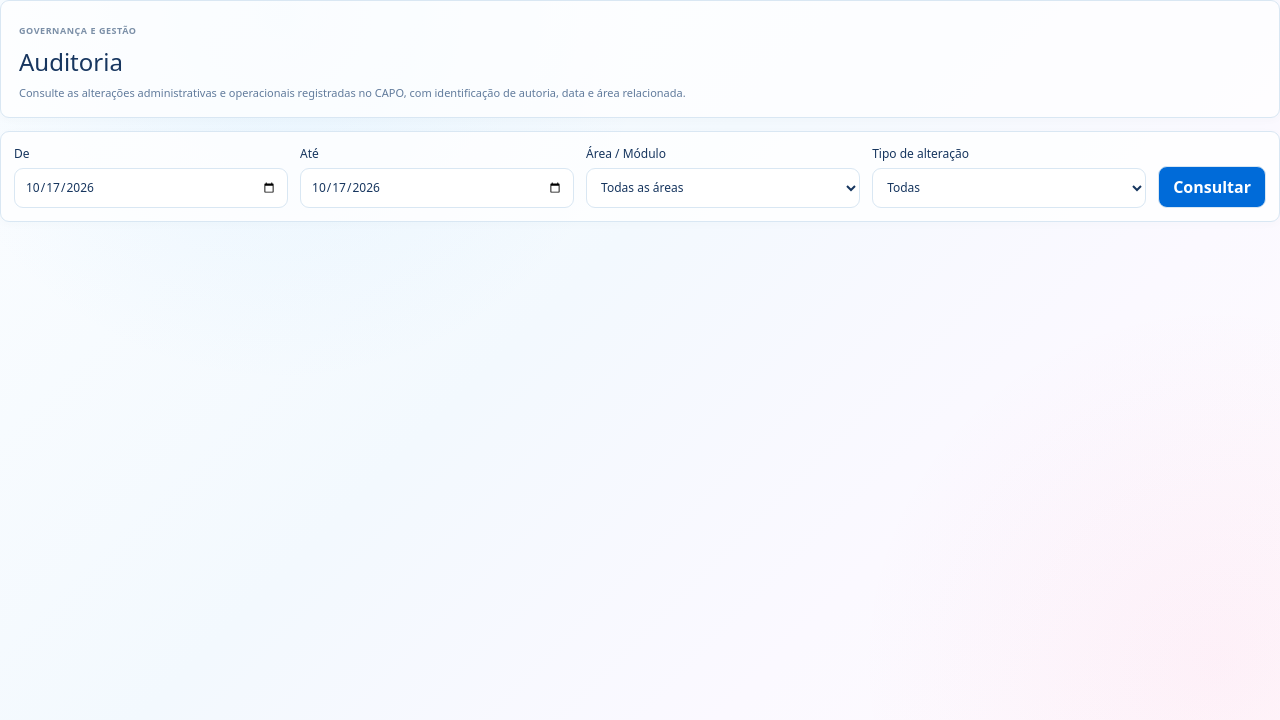
Auditoria administrativa do Gestor › apresenta autoria, área, resumo e alterações seguras, omitindo código da tabela
Click the button "Consultar": (1212, 186) [1158,166,1266,208]
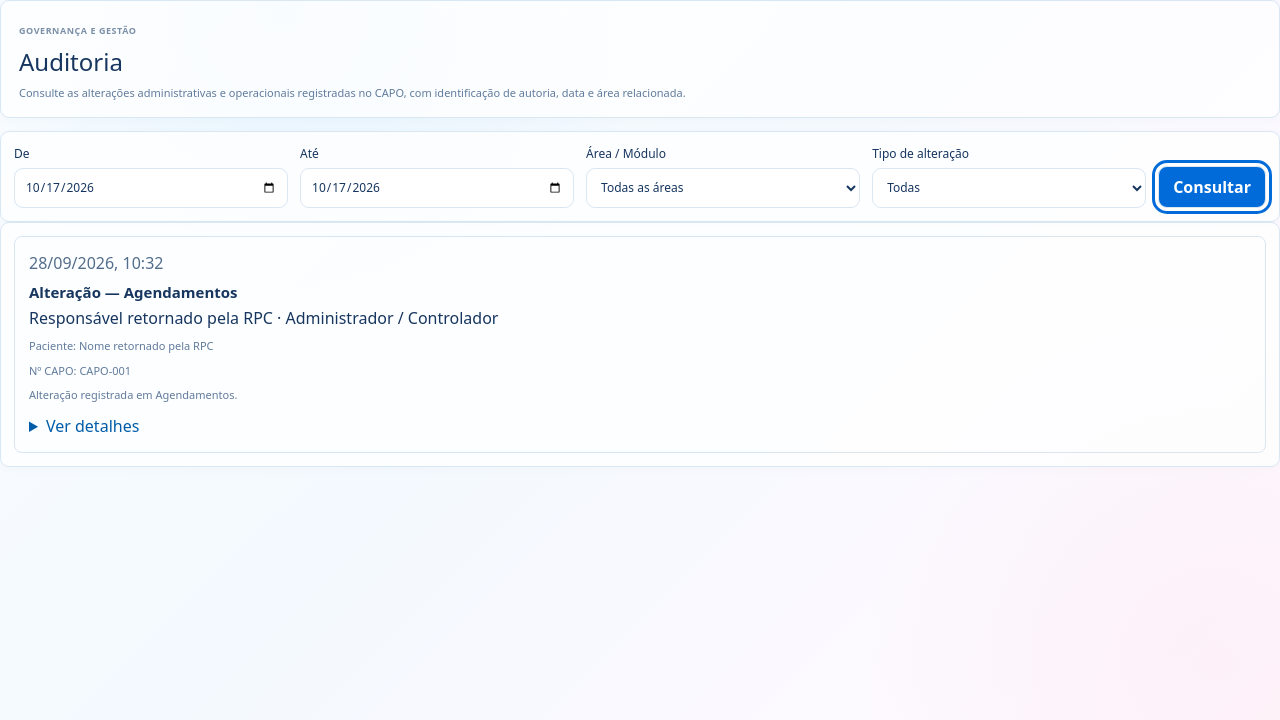
Check: the text "Alteração — Agendamentos" is shown, box [29,282,238,302]
Check: the text "Responsável retornado pela RPC · Administrador / Controlador" is shown, box [29,307,498,329]
Check: the text "Paciente: Nome retornado pela RPC" is shown, box [29,338,214,353]
Click the heading "Ver detalhes": (93, 426) [46,414,139,436]
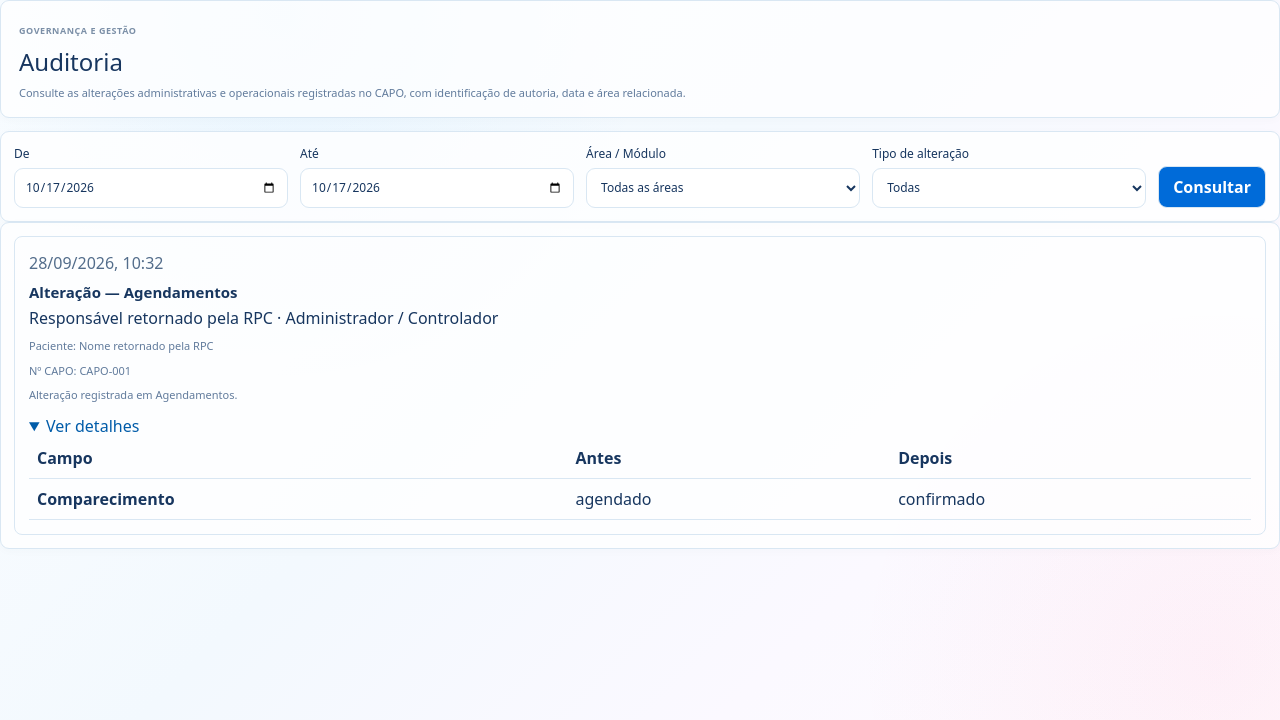
Check: the row "Comparecimento agendado confirmado" is shown, box [29,478,1251,519]
